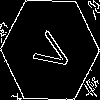V: (25, 25, 75, 77)
